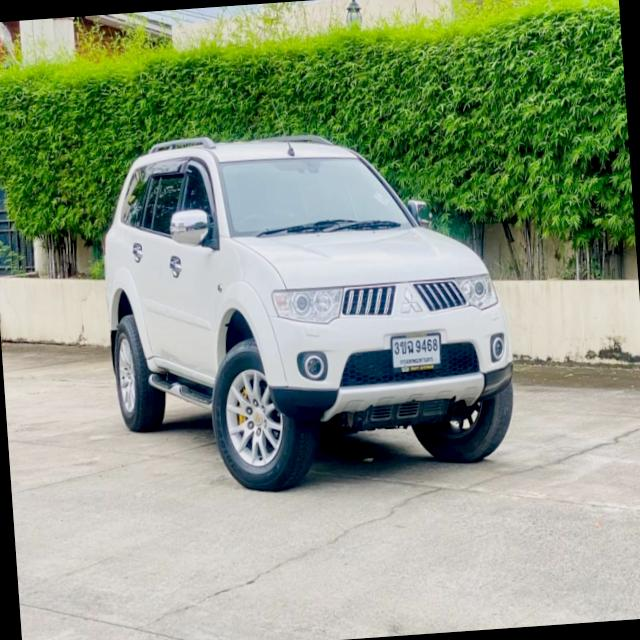license_plate: (389, 332, 444, 376)
